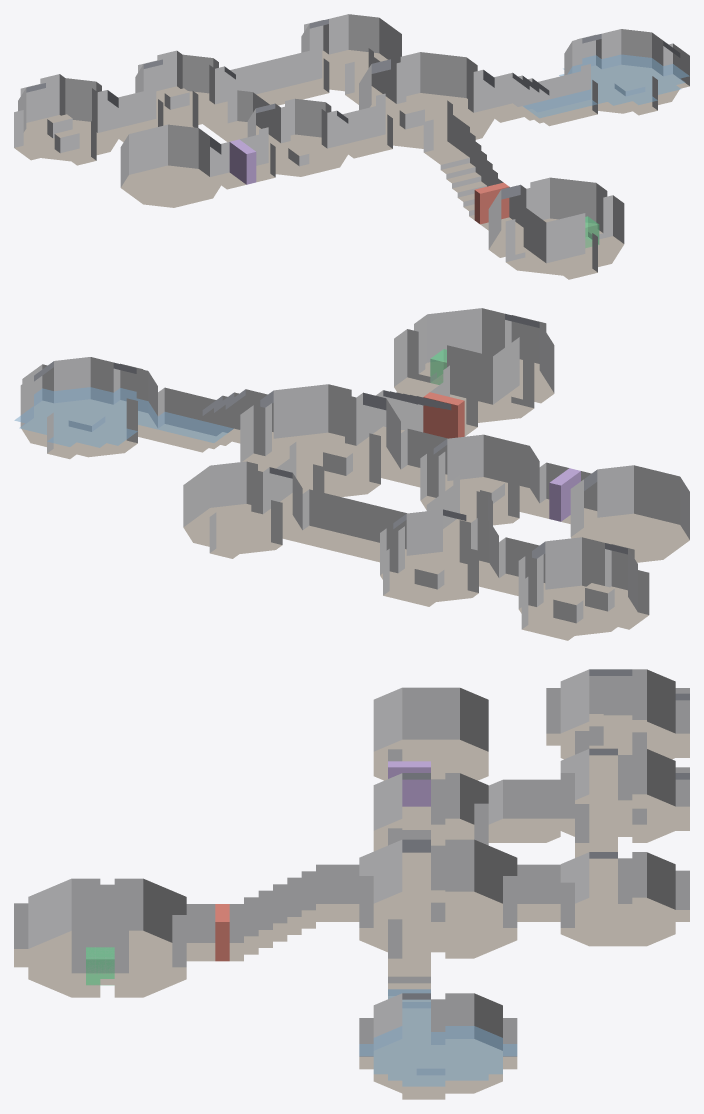
The model's file is pod_derelict_04.glb.
The picture shows the model from 3 angles, top to bottom: view 1: azimuth 30°, elevation 25°; view 2: azimuth 150°, elevation 25°; view 3: azimuth 270°, elevation 25°; orthographic projection. The views are drawn at different scales.
Parts seen in each view (by area): view 1: room:1, room:7, room:2, room:3, room:6, water, corridor:2, room:4, room:0, room:5, corridor:1, corridor:3 (+19 smaller); view 2: room:1, room:3, room:7, room:6, room:2, room:0, water, room:4, room:5, corridor:3, corridor:2, room:2/reactor core (+19 smaller); view 3: room:1, room:2, room:3, corridor:1, room:7, water, room:0, room:6, room:4, room:5, corridor:7, corridor:2 (+18 smaller).
Boxes of the visible parts, x1=… form: room:1: x1=359, y1=52, x2=494, y2=149; room:7: x1=120, y1=124, x2=221, y2=207; room:2: x1=488, y1=177, x2=624, y2=275; room:3: x1=564, y1=29, x2=680, y2=113; room:6: x1=18, y1=74, x2=118, y2=161; water: x1=523, y1=54, x2=689, y2=118; corridor:2: x1=483, y1=71, x2=597, y2=126; room:4: x1=135, y1=50, x2=235, y2=127; room:0: x1=301, y1=14, x2=401, y2=92; room:5: x1=247, y1=98, x2=348, y2=176; corridor:1: x1=423, y1=115, x2=520, y2=230; corridor:3: x1=224, y1=50, x2=329, y2=105; room:1: x1=240, y1=384, x2=400, y2=496; room:3: x1=20, y1=357, x2=157, y2=457; room:7: x1=570, y1=465, x2=689, y2=562; room:6: x1=518, y1=537, x2=637, y2=635; room:2: x1=394, y1=308, x2=554, y2=423; room:0: x1=183, y1=461, x2=302, y2=553; water: x1=14, y1=387, x2=233, y2=447; room:4: x1=380, y1=509, x2=498, y2=601; room:5: x1=420, y1=434, x2=539, y2=525; corridor:3: x1=289, y1=489, x2=406, y2=562; corridor:2: x1=145, y1=387, x2=273, y2=452; room:2/reactor core: x1=447, y1=337, x2=519, y2=404; room:1: x1=359, y1=839, x2=517, y2=958; room:2: x1=28, y1=878, x2=186, y2=997; room:3: x1=373, y1=993, x2=502, y2=1093; corridor:1: x1=186, y1=864, x2=359, y2=961; room:7: x1=373, y1=687, x2=488, y2=780; water: x1=359, y1=989, x2=517, y2=1086; room:0: x1=560, y1=852, x2=675, y2=946; room:6: x1=560, y1=669, x2=689, y2=769; room:4: x1=560, y1=748, x2=689, y2=842; room:5: x1=373, y1=773, x2=488, y2=867; corridor:7: x1=488, y1=779, x2=560, y2=842; corridor:2: x1=388, y1=919, x2=430, y2=1038.
Bounding box in the file's own units: 60 × 7 × 47.
